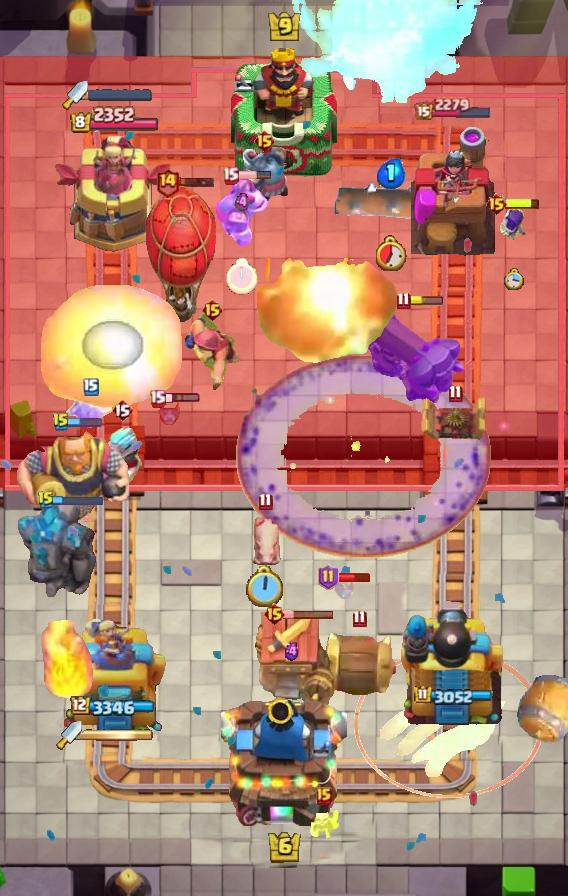bar: (52, 132, 176, 256), (61, 615, 166, 731)
barbarian-barrel: (156, 399, 182, 427), (333, 574, 357, 602)
cannon-cart: (145, 186, 217, 326)
cannoneer-tower: (15, 502, 99, 600)
dirt: (516, 669, 568, 745)
electro-spirit: (378, 158, 406, 189), (283, 643, 301, 662), (235, 191, 249, 212)
elixir: (247, 566, 286, 610), (226, 258, 258, 295), (377, 235, 407, 271), (504, 268, 524, 290)
elixir-golem-small: (215, 176, 269, 248), (236, 145, 292, 205)
emote: (52, 495, 104, 506), (283, 609, 335, 620), (505, 198, 541, 211), (177, 176, 214, 188), (164, 392, 201, 404), (67, 416, 103, 428), (337, 572, 371, 583), (236, 170, 272, 180), (408, 296, 444, 306)
fireball: (181, 312, 243, 396)
furnace: (357, 304, 467, 406)
giant: (248, 516, 282, 572)
giant-skeleton: (15, 426, 131, 526)
goblin: (498, 207, 530, 245)
goblin-brawler: (420, 394, 490, 444)
heal-spirit: (309, 807, 339, 841)
ice-wizard: (354, 650, 544, 799)
king-tower: (221, 690, 347, 826), (231, 43, 337, 181)
king-tower-bar: (82, 728, 154, 742), (88, 89, 152, 101)
mega-knight: (269, 0, 491, 128)
minion: (330, 181, 452, 225)
mirror: (66, 392, 116, 430)
mortar: (99, 425, 145, 489)
queen-tower: (411, 122, 495, 256)
rocket: (236, 354, 492, 558)
selected: (68, 106, 159, 135), (414, 96, 494, 120), (71, 696, 157, 718), (414, 685, 494, 705)
sparky: (249, 611, 335, 709)
text: (156, 167, 181, 197), (253, 129, 276, 153), (484, 192, 507, 216), (200, 298, 223, 322), (262, 602, 285, 626), (318, 564, 339, 590), (111, 398, 133, 422), (52, 412, 70, 432), (37, 490, 55, 510), (149, 388, 167, 407), (222, 167, 239, 186), (83, 378, 99, 396), (316, 787, 332, 805), (397, 290, 412, 309), (449, 385, 463, 403), (259, 493, 273, 511), (353, 609, 367, 627)
the-log: (314, 631, 404, 699)
tower-bar: (397, 595, 509, 731)
valkyrie: (253, 258, 409, 380), (34, 285, 190, 407), (41, 617, 99, 703)
